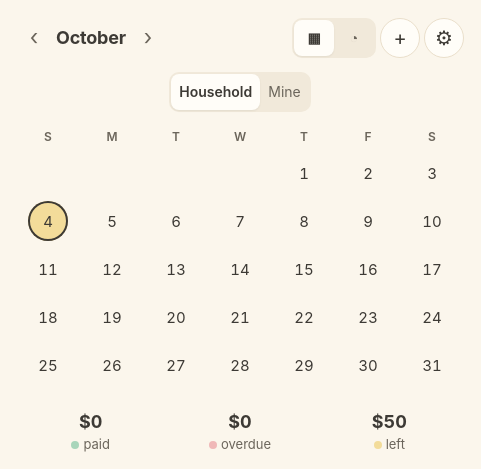
Test: Home › a categories error shows a quiet line, not grey Other slices
What coordinates should you click on to do the following:
click the button named "Chart view"
I would click on:
 (354, 38)
Its box is [334,20,374,56].
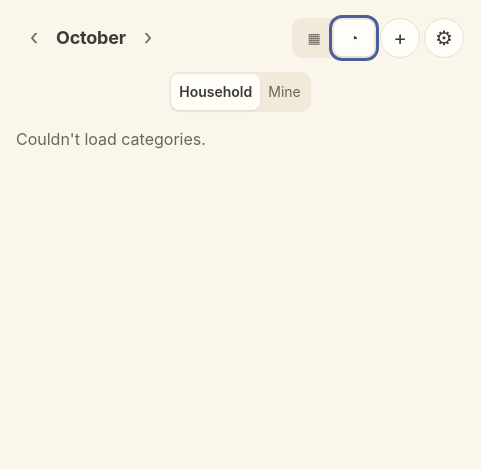
Expected: the message reads "Couldn't load categories.", [16,129,206,149]
